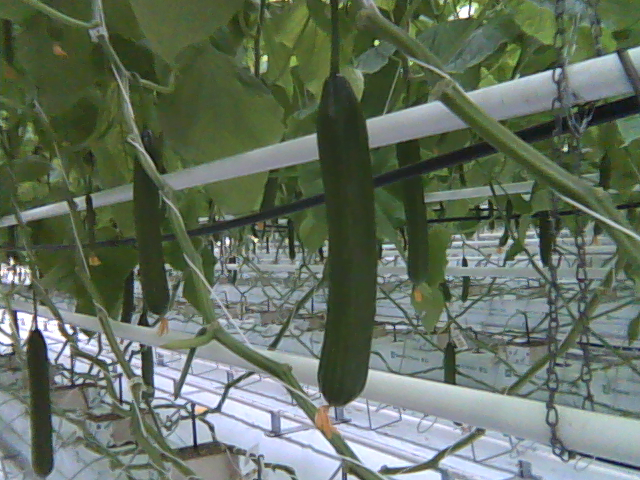concombre: (303, 57, 381, 440), (131, 126, 176, 339), (24, 325, 57, 480)
